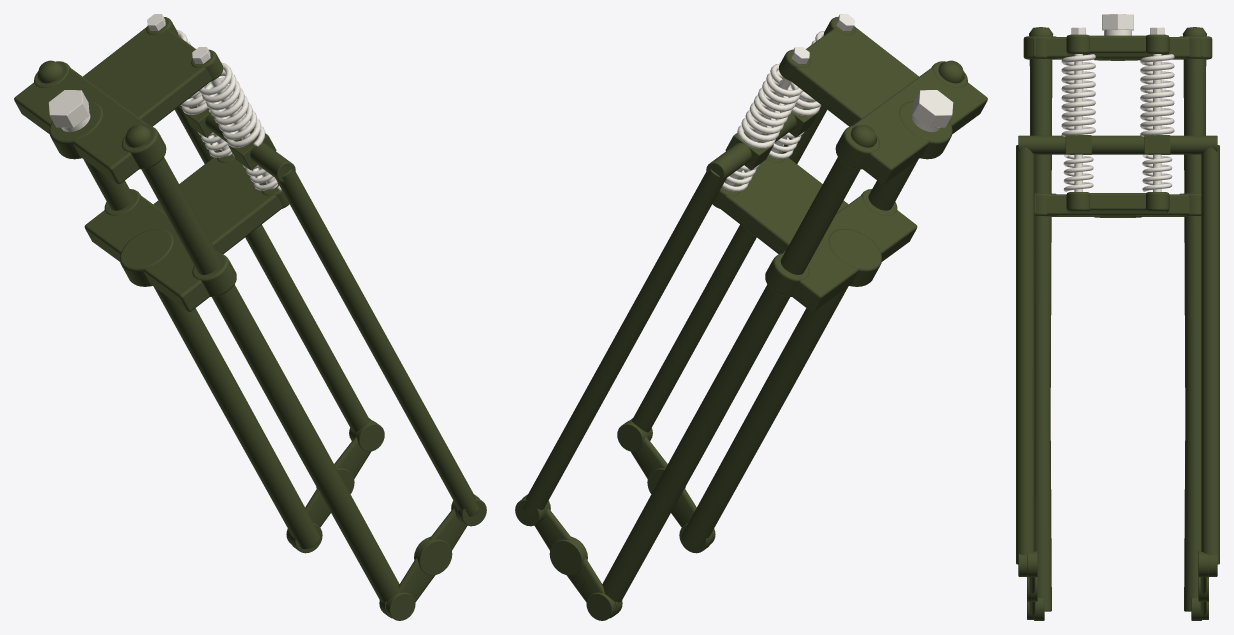
The model's file is bike_vintage_vtwin__forks.glb.
3 renders of one model, left to right at view 1: azimuth 30°, elevation 25°; view 2: azimuth 150°, elevation 25°; view 3: azimuth 270°, elevation 25°, orthographic. The views are drawn at different scales.
Visible parts, largest first — view 1: chassis__front_fork__rigid_legs, chassis__front_fork__sprung_legs, chassis__steering__upper_crown, chassis__steering__lower_crown, chassis__front_fork__rockers, chassis__front_fork__springs, chassis__steering__stem_and_nut, chassis__front_fork__spring_rods, chassis__front_fork__recoil_springs; view 2: chassis__front_fork__rigid_legs, chassis__front_fork__sprung_legs, chassis__steering__upper_crown, chassis__steering__lower_crown, chassis__front_fork__rockers, chassis__front_fork__springs, chassis__steering__stem_and_nut, chassis__front_fork__spring_rods, chassis__front_fork__recoil_springs; view 3: chassis__front_fork__sprung_legs, chassis__front_fork__rigid_legs, chassis__front_fork__springs, chassis__steering__upper_crown, chassis__steering__lower_crown, chassis__front_fork__recoil_springs, chassis__front_fork__rockers, chassis__front_fork__spring_rods, chassis__steering__stem_and_nut.
Part boxes in pixels (box(x1,y1,x2,y2)): chassis__front_fork__rigid_legs: box(37, 60, 399, 618); chassis__front_fork__sprung_legs: box(175, 105, 486, 526); chassis__steering__upper_crown: box(14, 17, 222, 184); chassis__steering__lower_crown: box(84, 150, 289, 311); chassis__front_fork__rockers: box(286, 420, 479, 620); chassis__front_fork__springs: box(176, 29, 265, 147); chassis__steering__stem_and_nut: box(48, 90, 90, 132); chassis__front_fork__spring_rods: box(147, 14, 277, 189); chassis__front_fork__recoil_springs: box(198, 132, 281, 190); chassis__front_fork__rigid_legs: box(602, 60, 964, 618); chassis__front_fork__sprung_legs: box(515, 100, 826, 526); chassis__steering__upper_crown: box(779, 17, 987, 184); chassis__steering__lower_crown: box(712, 151, 917, 311); chassis__front_fork__rockers: box(522, 420, 715, 620); chassis__front_fork__springs: box(737, 31, 824, 148); chassis__steering__stem_and_nut: box(911, 90, 953, 132); chassis__front_fork__spring_rods: box(725, 14, 854, 186); chassis__front_fork__recoil_springs: box(722, 131, 804, 191); chassis__front_fork__sprung_legs: box(1016, 135, 1219, 576); chassis__front_fork__rigid_legs: box(1029, 27, 1206, 620); chassis__front_fork__springs: box(1061, 54, 1174, 136); chassis__steering__upper_crown: box(1023, 34, 1212, 60); chassis__steering__lower_crown: box(1034, 192, 1201, 217); chassis__front_fork__recoil_springs: box(1063, 154, 1172, 191); chassis__front_fork__rockers: box(1027, 551, 1208, 619); chassis__front_fork__spring_rods: box(1071, 27, 1164, 191); chassis__steering__stem_and_nut: box(1102, 14, 1133, 35).
Size of the model in its own units: 44.15 by 65.72 by 23.3.
